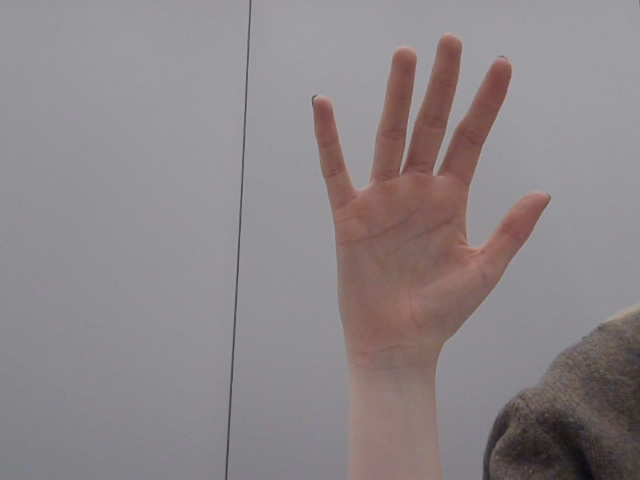nada: (304, 20, 564, 375)
